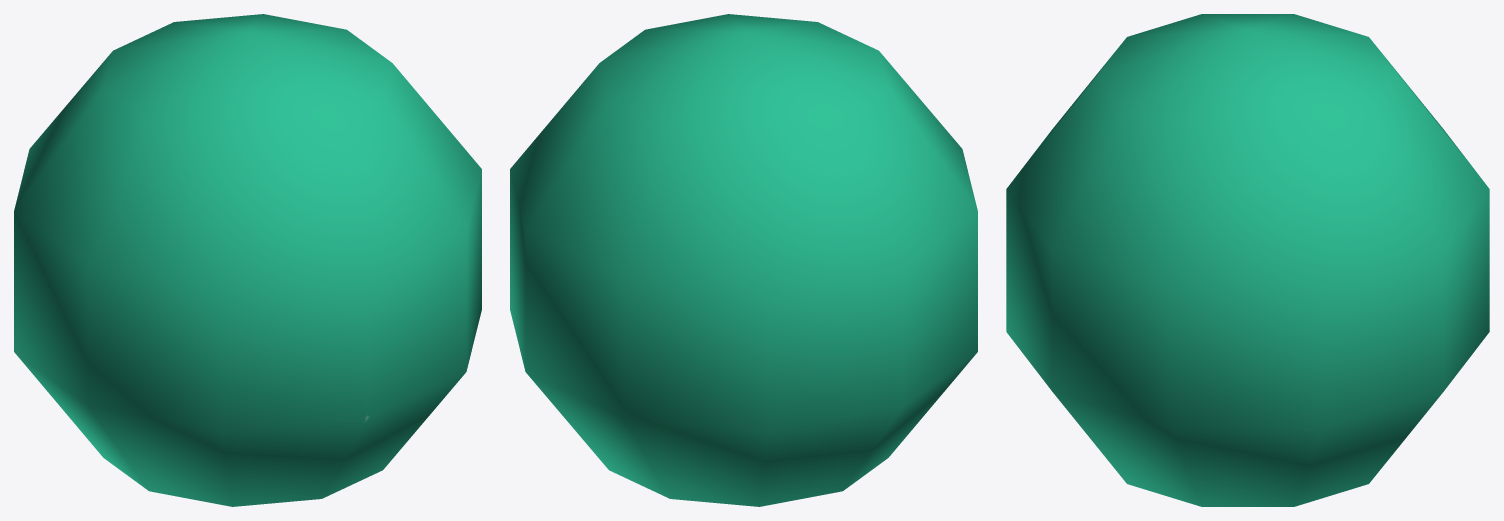
File: Bullet_01.FBX
3 renders of one model, left to right at view 1: azimuth 30°, elevation 25°; view 2: azimuth 150°, elevation 25°; view 3: azimuth 270°, elevation 25°, orthographic.
Parts seen in each view (by area): view 1: Sphere001; view 2: Sphere001; view 3: Sphere001.
Part boxes in pixels (left/top/right/bottom): Sphere001: left=14, top=14, right=481, bottom=506; Sphere001: left=510, top=14, right=977, bottom=506; Sphere001: left=1006, top=14, right=1489, bottom=506.
Size of the model in its own units: 9.48 by 10.48 by 9.96.
